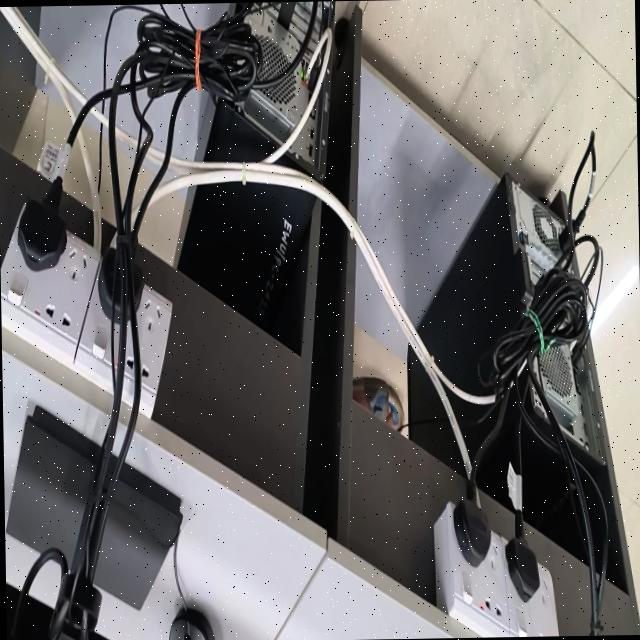Cpu: (405, 169, 607, 542), (172, 0, 335, 336)
Monitor: (5, 405, 181, 640)
Mouse: (168, 608, 214, 640)
